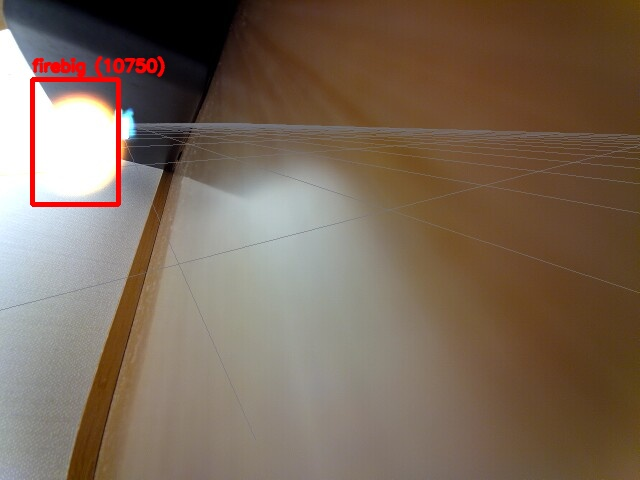firebig: (32, 79, 118, 204)
